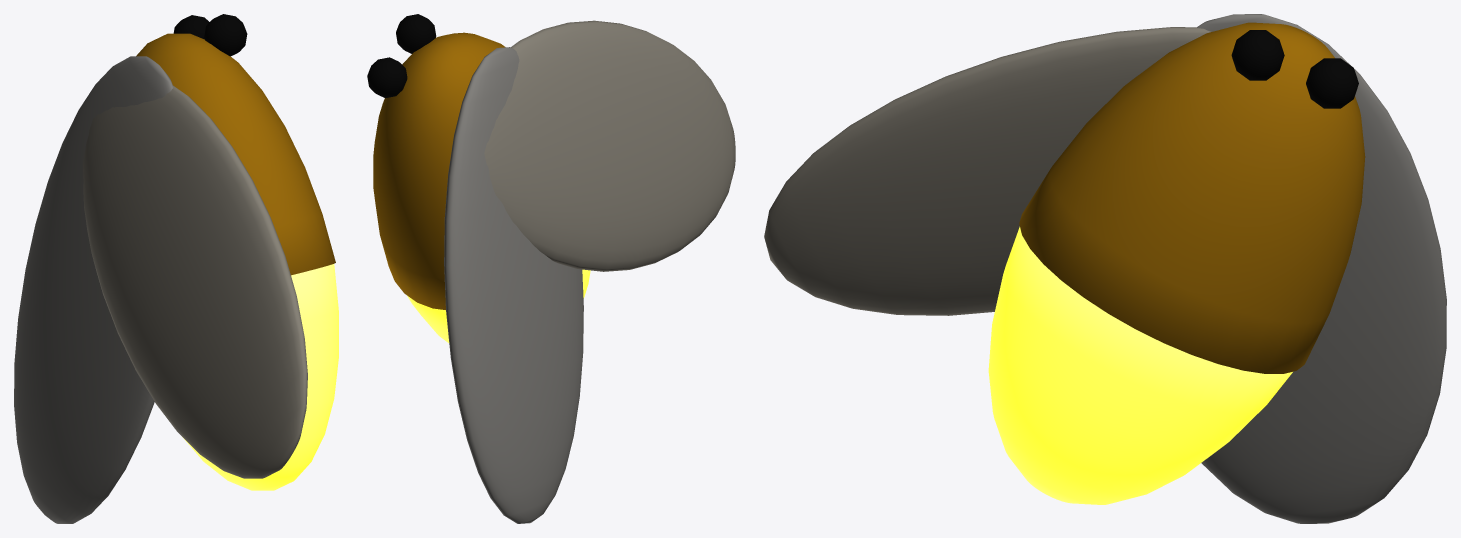
Rendered from Fireflies.fbx.
3 views of the same model, side by side, from view 1: azimuth 30°, elevation 25°; view 2: azimuth 150°, elevation 25°; view 3: azimuth 270°, elevation 25° (orthographic). The views are drawn at different scales.
Visible parts, largest first — view 1: Sphere.002, Sphere.001, Sphere, Sphere.003, Icosphere.001, Icosphere; view 2: Sphere.002, Sphere.001, Sphere, Icosphere, Icosphere.001, Sphere.003; view 3: Sphere, Sphere.002, Sphere.001, Sphere.003, Icosphere, Icosphere.001.
Boxes of the visible parts, x1,y1,x2,y2 form: Sphere.002: (83, 85, 307, 478); Sphere.001: (14, 56, 173, 523); Sphere: (136, 33, 335, 275); Sphere.003: (182, 264, 338, 490); Icosphere.001: (204, 14, 247, 56); Icosphere: (173, 15, 209, 39); Sphere.002: (484, 20, 735, 271); Sphere.001: (444, 47, 583, 523); Sphere: (373, 32, 505, 309); Icosphere: (367, 57, 407, 98); Icosphere.001: (396, 14, 436, 53); Sphere.003: (407, 269, 590, 343); Sphere: (1019, 22, 1365, 373); Sphere.002: (764, 27, 1210, 315); Sphere.001: (1197, 14, 1446, 523); Sphere.003: (988, 226, 1292, 504); Icosphere: (1306, 58, 1358, 108); Icosphere.001: (1231, 30, 1284, 80).
Size of the model in its own units: 93.42 by 205 by 218.
